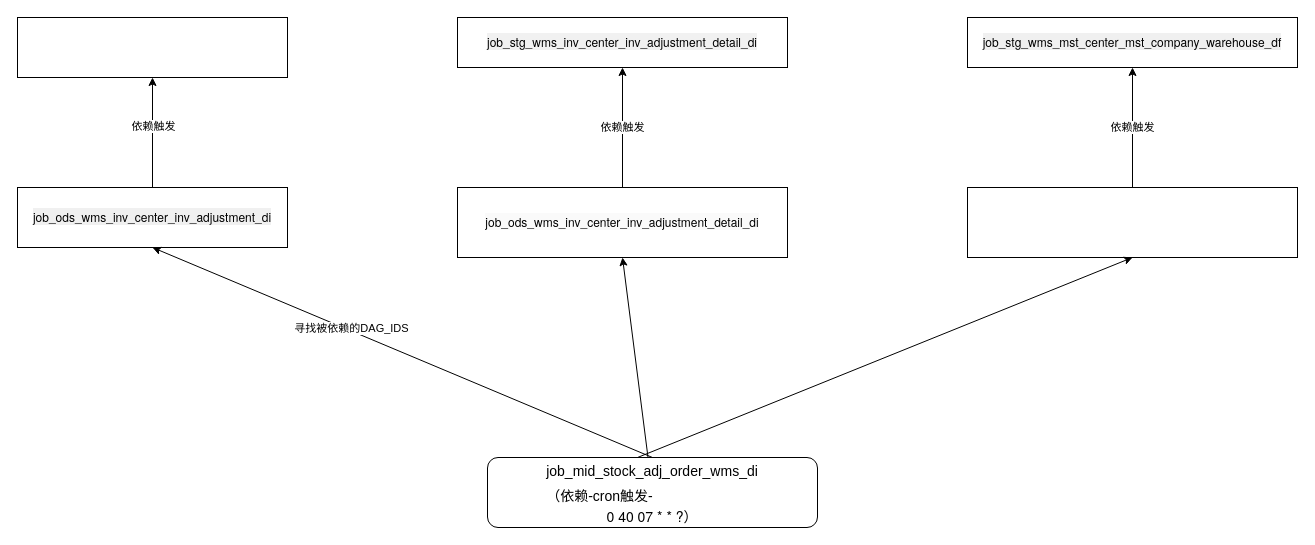
This 1315x545 diagram has some shape labels left out. The shapes that lost their labels are listed below. From the top down, each one's box as (x1, y1, x2, y2) in pixels, then its label:
(16, 16, 288, 78): job_stg_wms_inv_center_inv_adjustment_di
(966, 186, 1298, 258): job_ods_wms_mst_center_mst_company_warehouse_df
